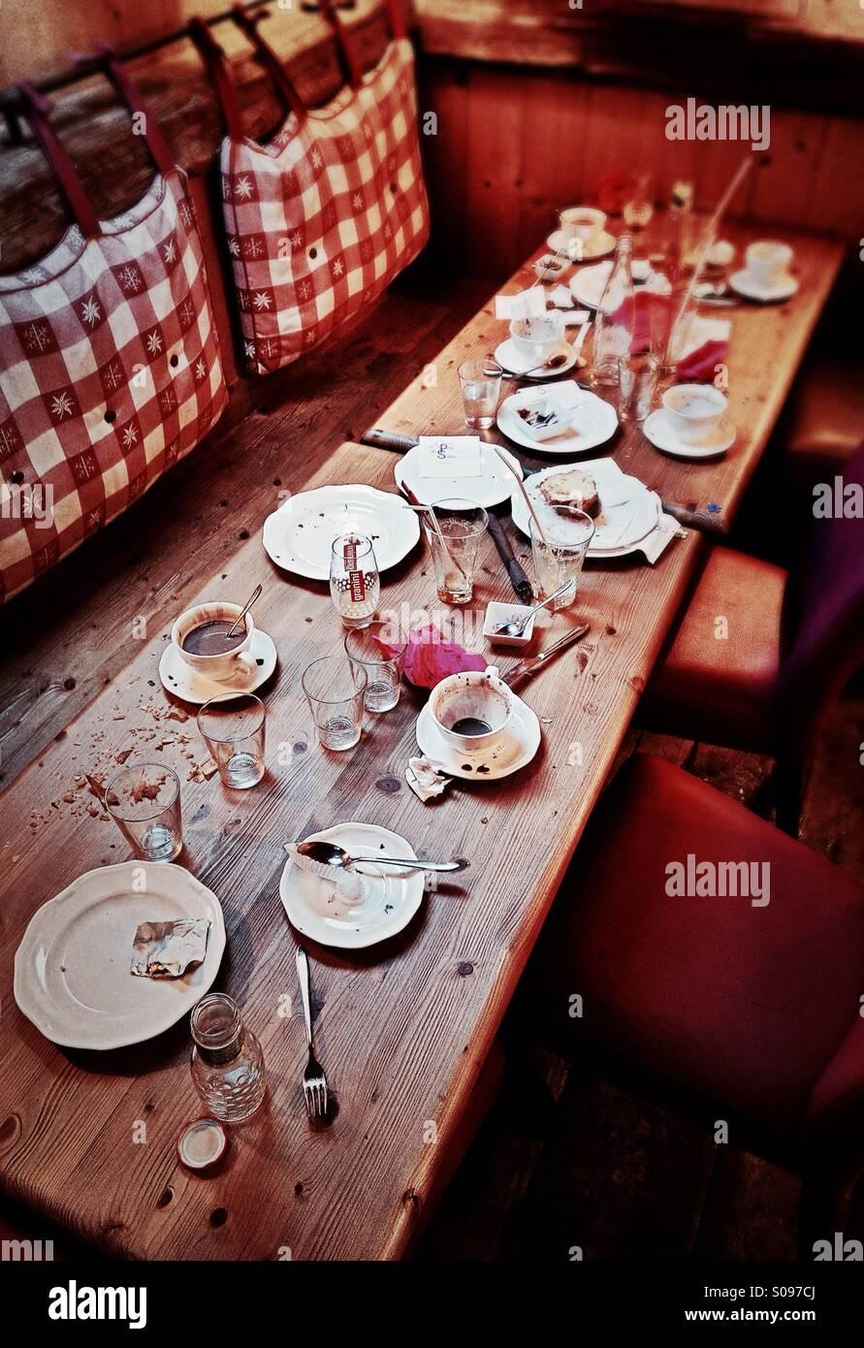Messy Table: (0, 70, 828, 1274)
